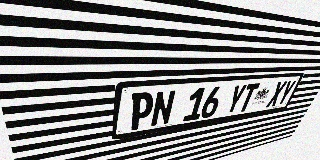1: (183, 87, 208, 122)
6: (199, 86, 224, 119)
N: (150, 90, 176, 127)
P: (128, 91, 155, 131)
T: (237, 83, 260, 112)
X: (266, 81, 288, 107)
Y: (224, 84, 248, 115), (275, 80, 297, 106)
